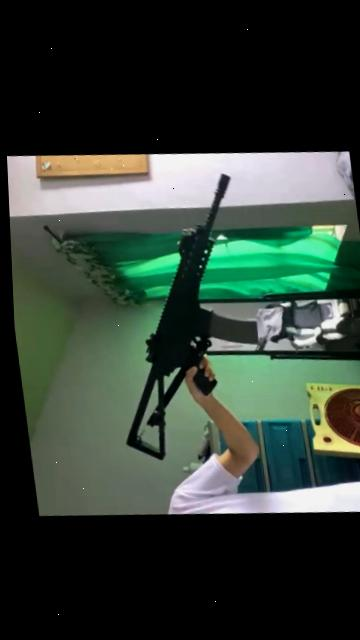rifle: (78, 160, 286, 471)
